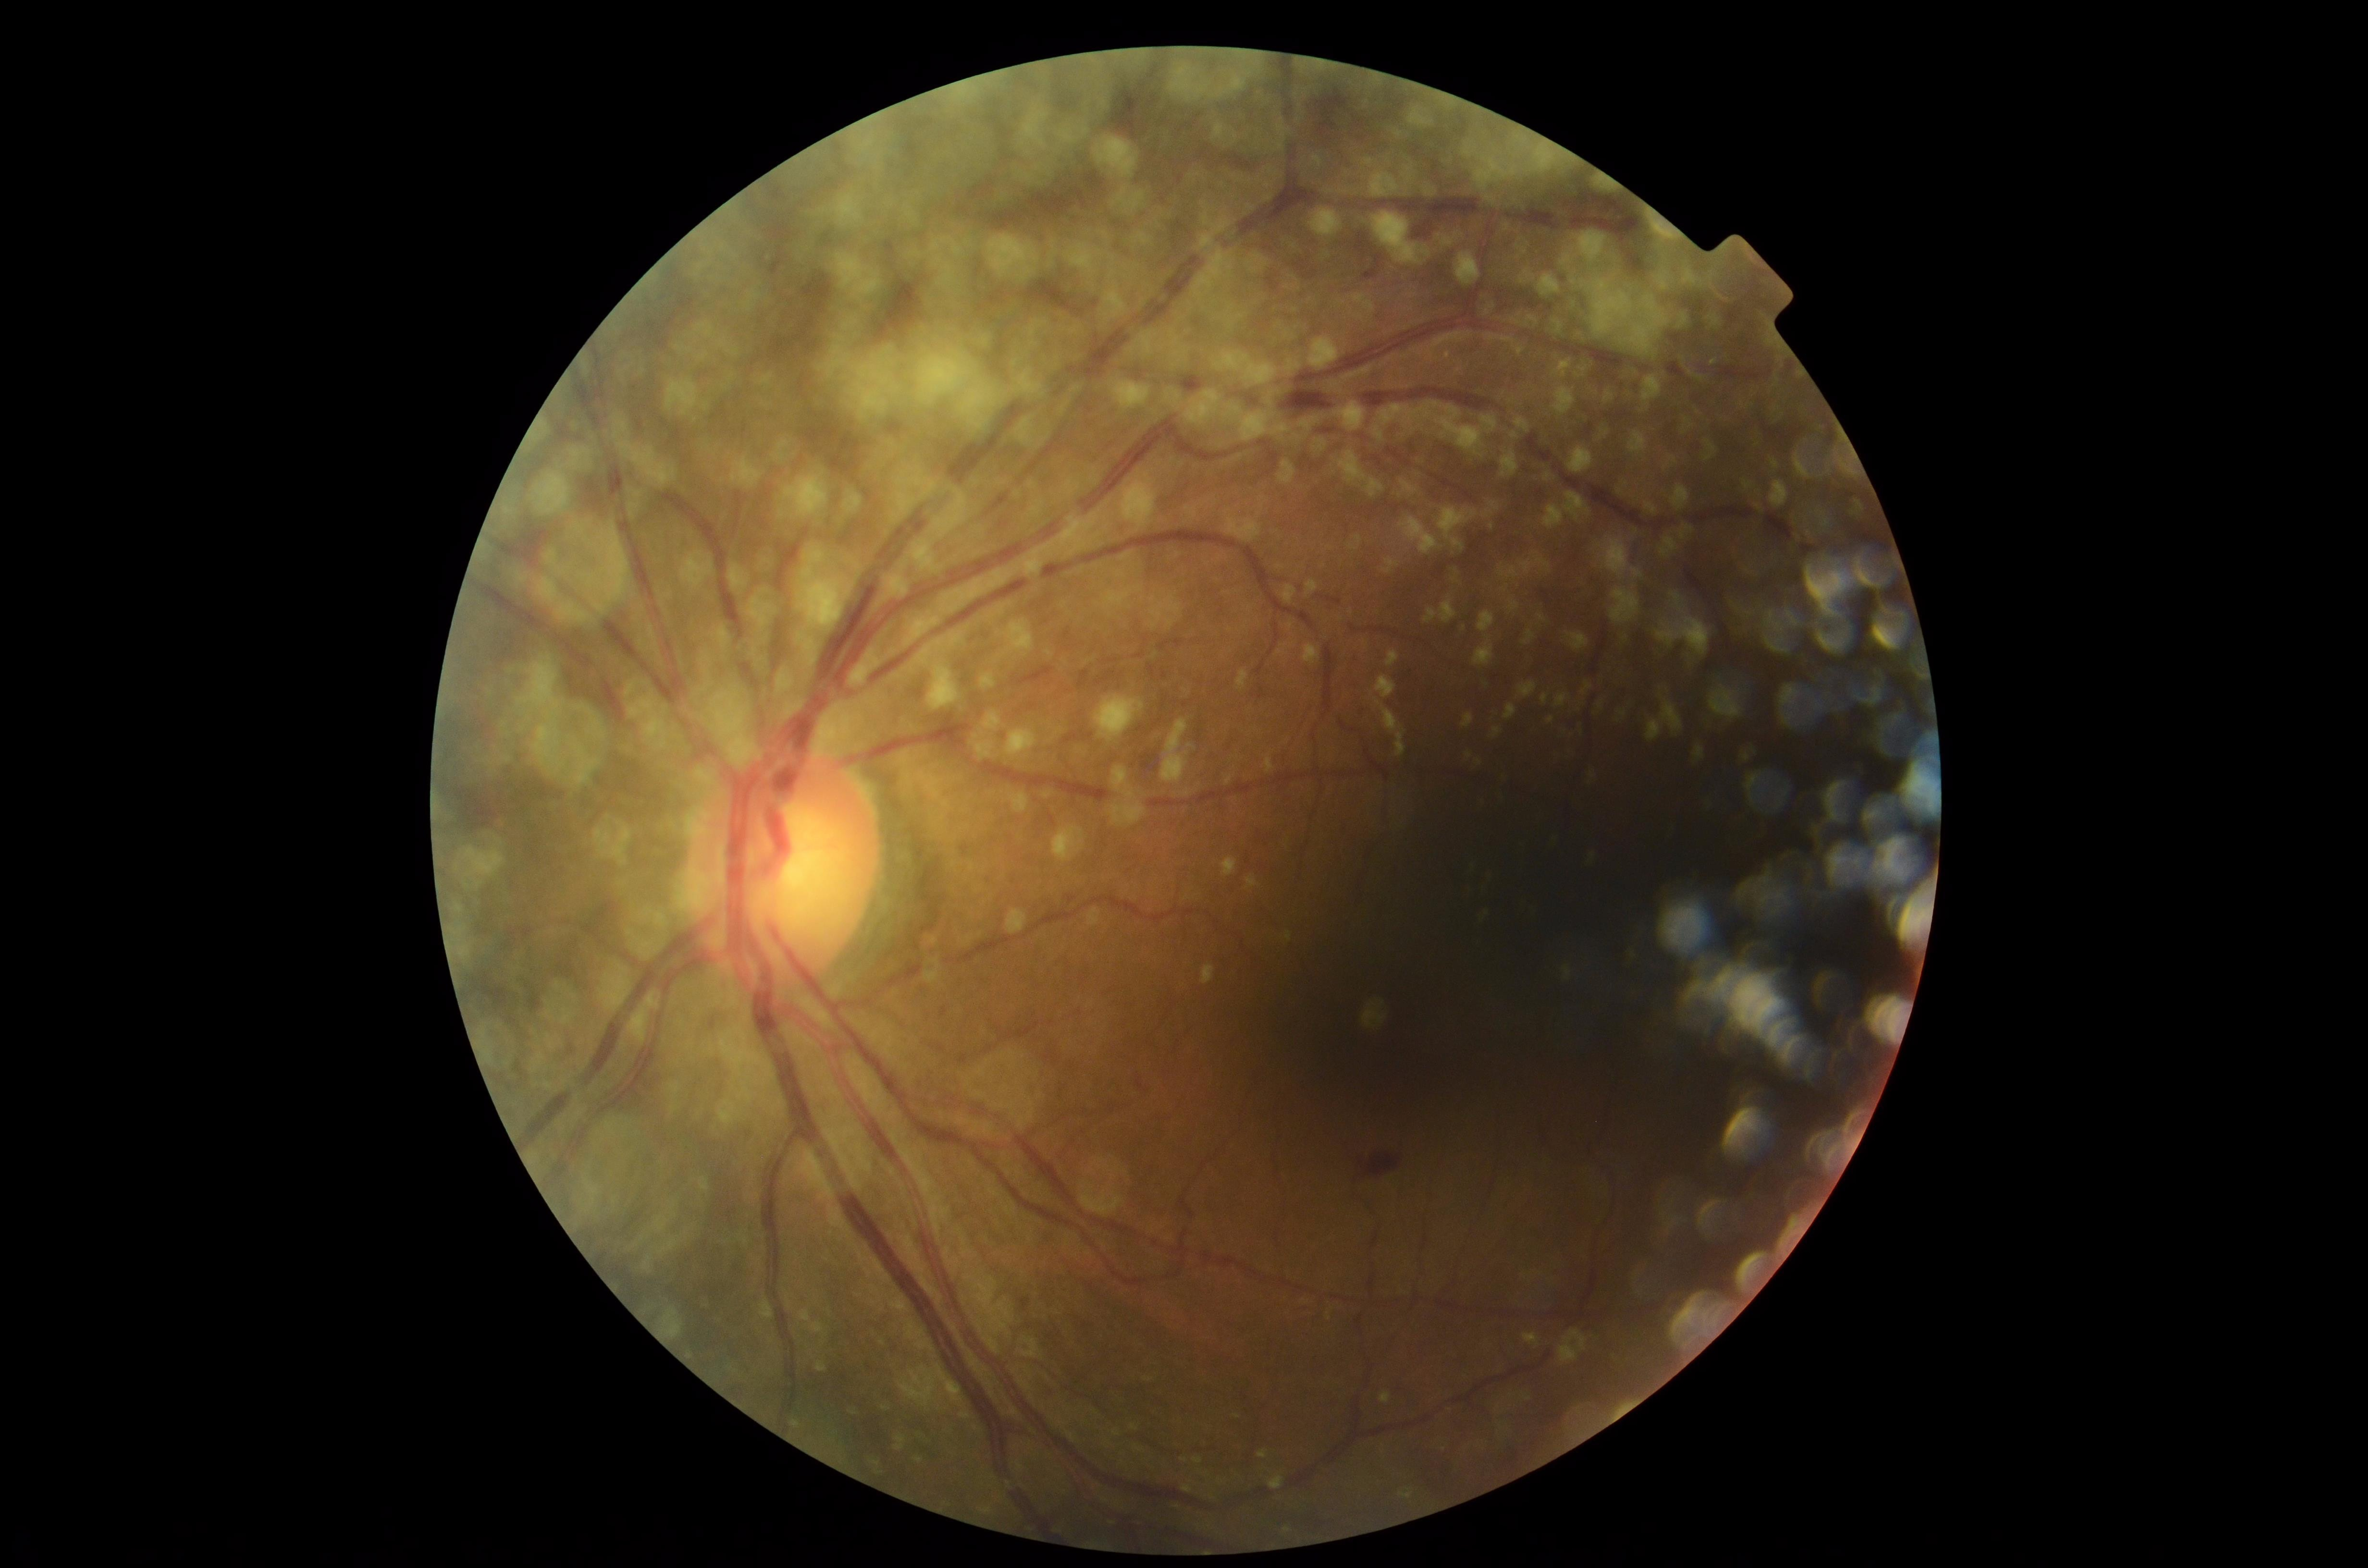Fovea: (1307, 978, 1495, 1134)
OD: (662, 744, 896, 1004)
